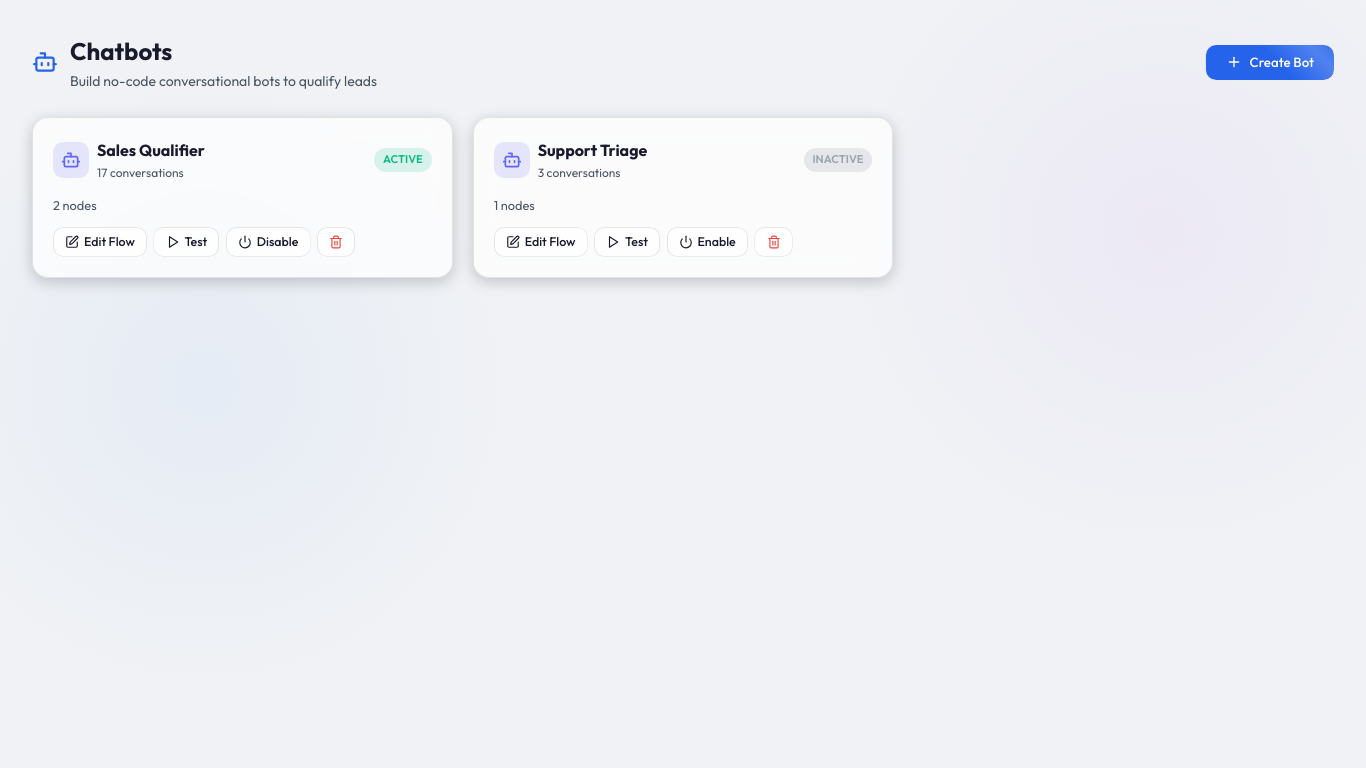
Test: <Chatbots /> — page surface › clicking Create Bot opens the name modal with an input + Cancel/Create
Expected: the text "Sales Qualifier" is shown, x1=97 y1=138 x2=205 y2=163
Click the button "Create Bot": point(1270, 62) x1=1206 y1=45 x2=1334 y2=80
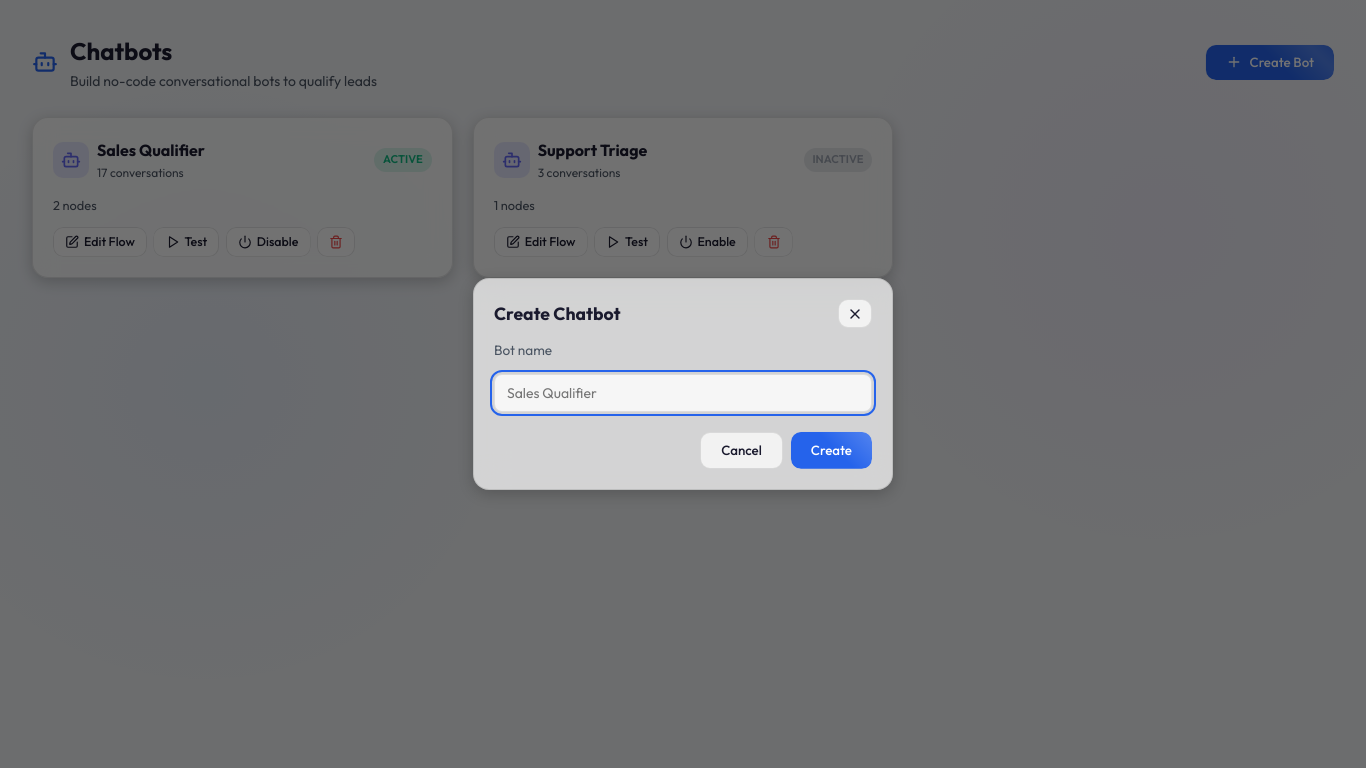
Now the heading "Create Chatbot" is shown, box x1=494 y1=300 x2=620 y2=328
Now the field with placeholder "Sales Qualifier" is shown, box x1=494 y1=374 x2=872 y2=412
Now the button "Cancel" is shown, box x1=700 y1=432 x2=783 y2=469
